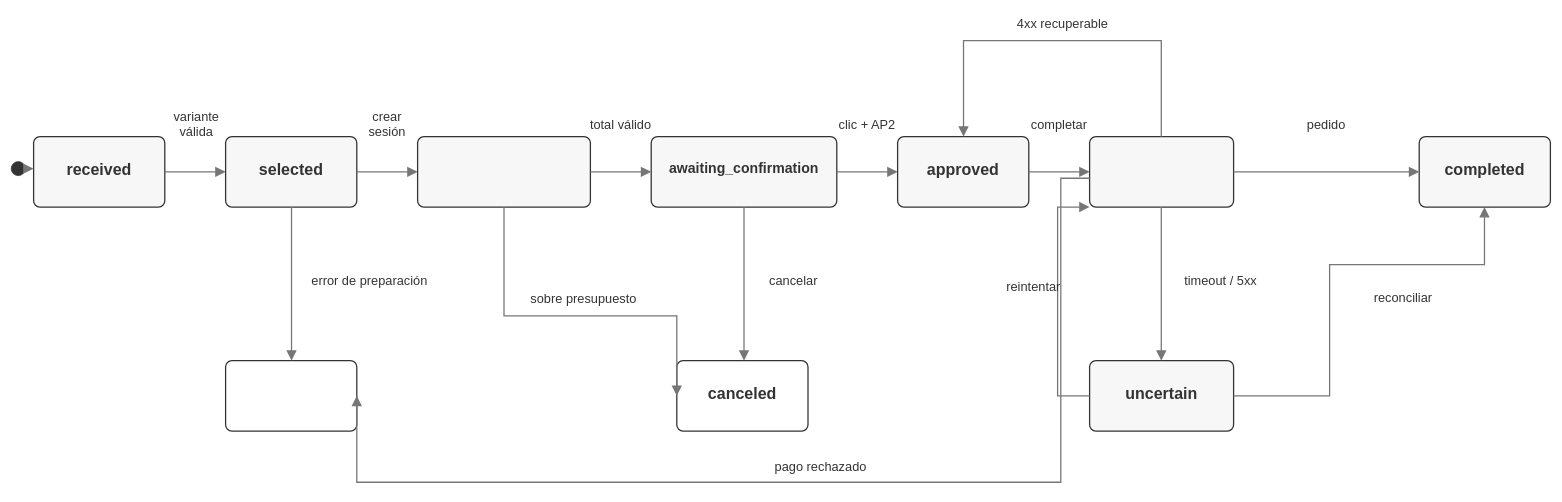
Some shapes in this 1562 by 502 pixel diagram are drawn without their labels. Each missing label, with the centre of its shape:
checkout_prepared: point (504, 171)
completing: point (1161, 171)
failed: point (291, 395)
